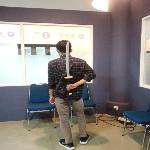Pedang: (60, 36, 80, 110)
